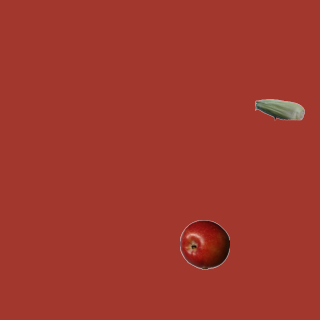Apple Braeburn: (179, 219, 229, 269)
Corn Husk: (254, 84, 304, 134)
